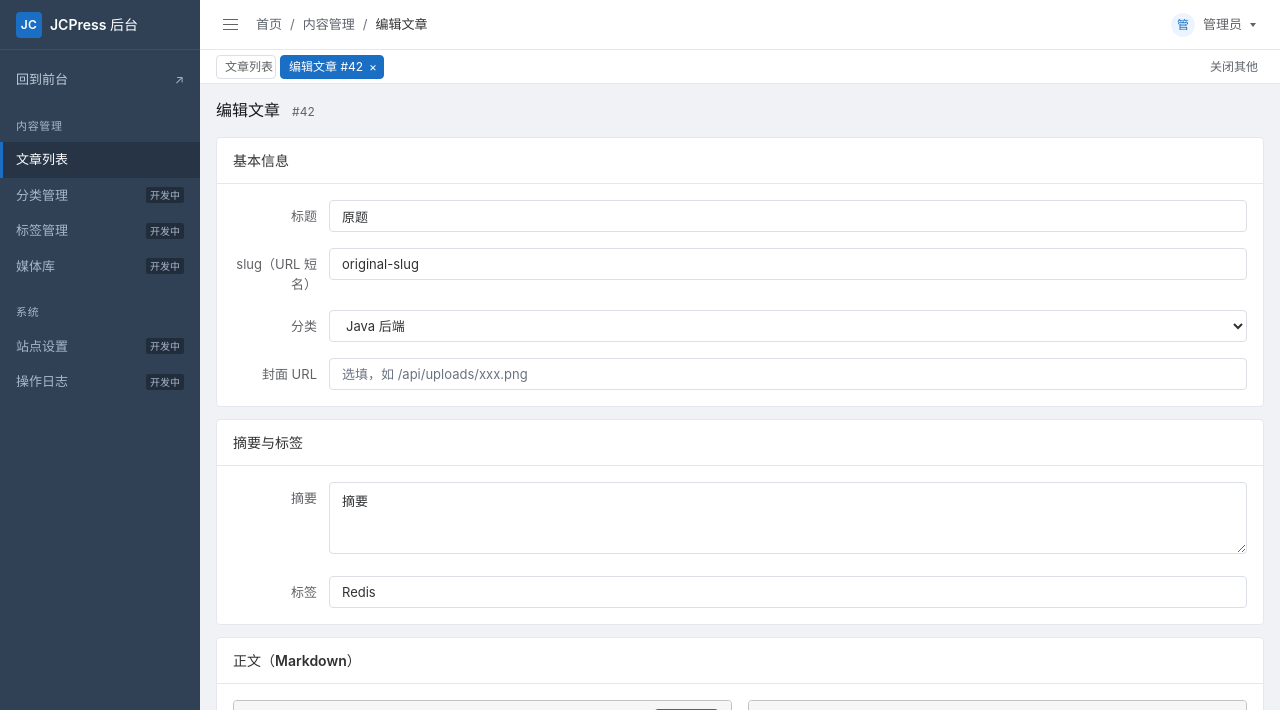
Scenario: AdminArticleEditPage › 中文标题 + 空 slug → 提交前拦下并给出提示，且不发保存请求
Replace the text in the field labelled "标题" with "一篇中文标题" at (788, 216), box [329,200,1247,232]
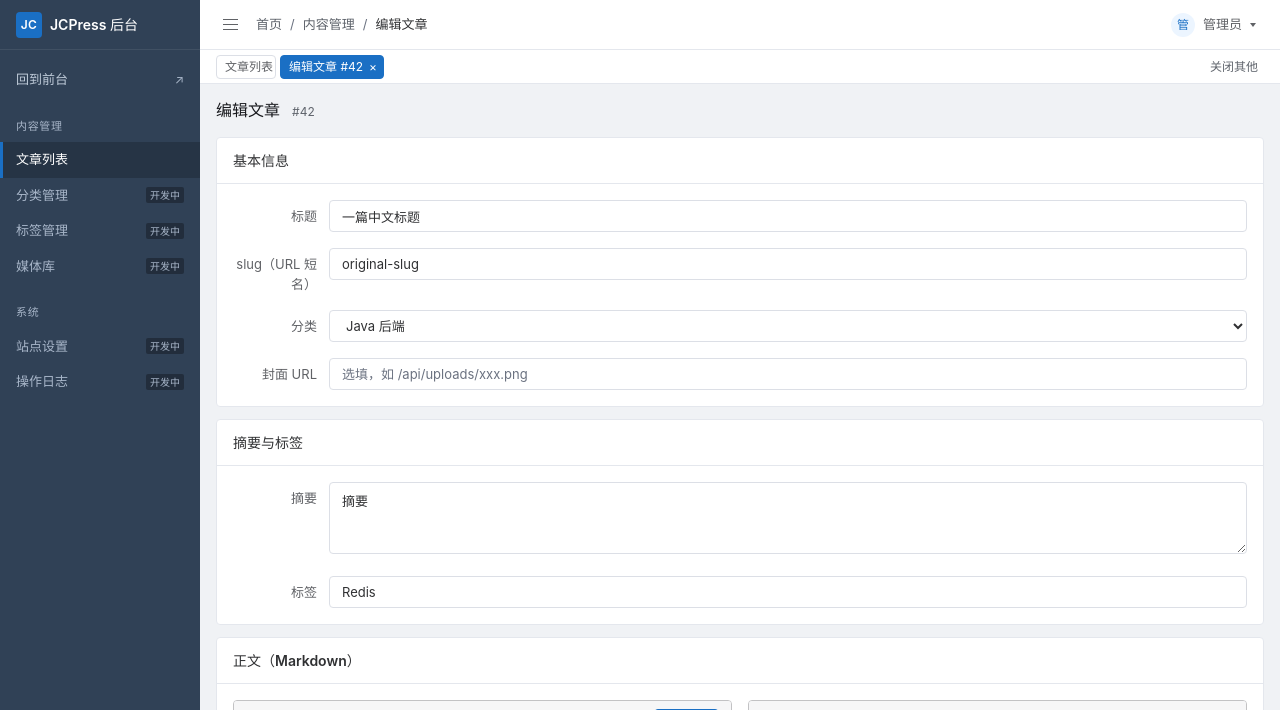
Clear the field labelled "slug（URL 短名）" at (788, 264), box [329,248,1247,280]
(page scrolled)
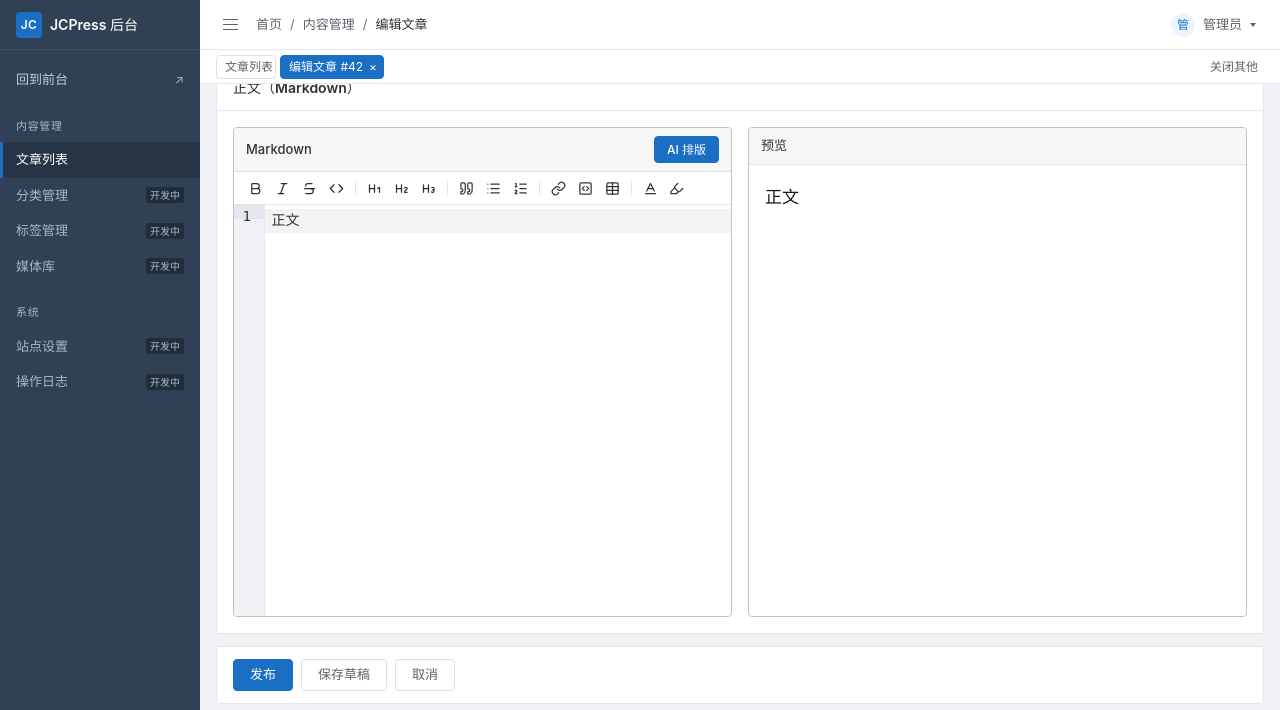
Click the button "保存草稿" at (344, 675), box [301,659,387,691]
(page scrolled)
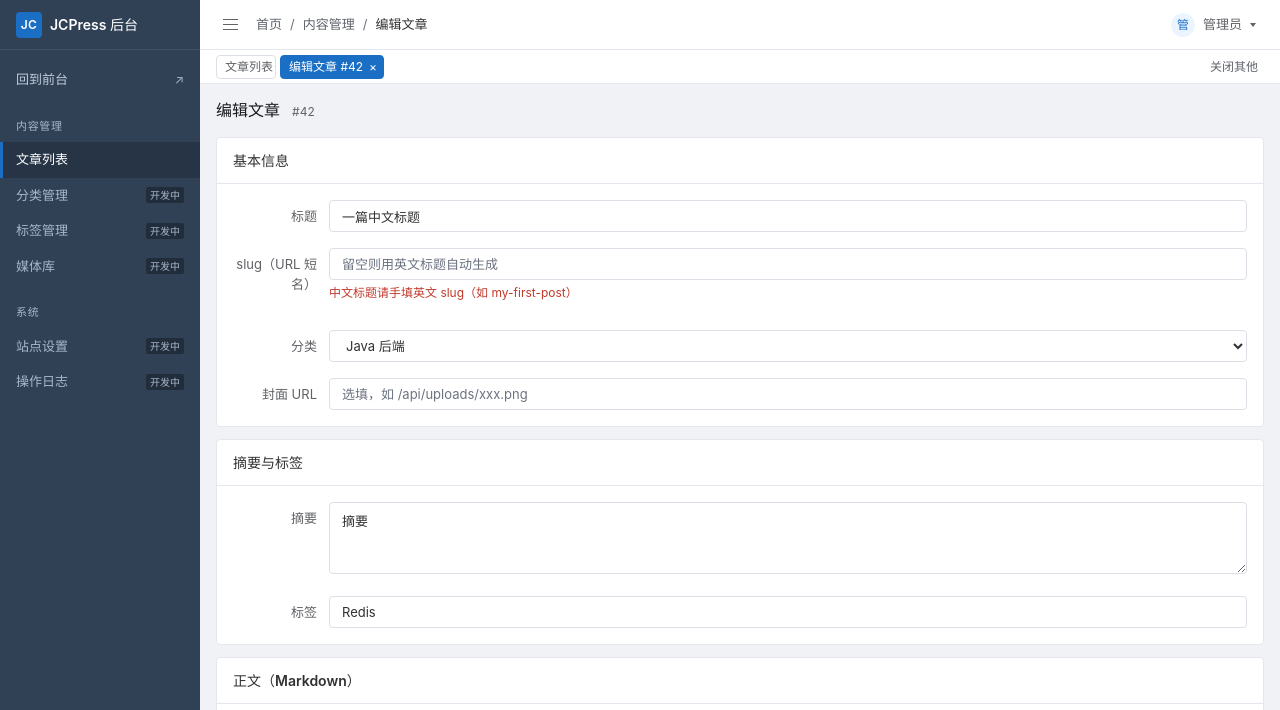
Expected: the text "中文标题请手填英文 slug（如 my-first-post）" is shown, [329,285,578,300]
